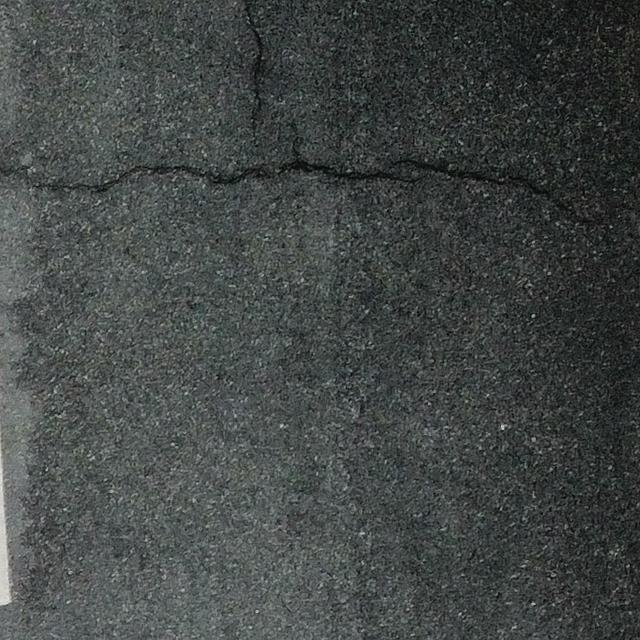LongitudinalCrack: (245, 1, 265, 141)
TransverseCrack: (41, 123, 584, 220)
